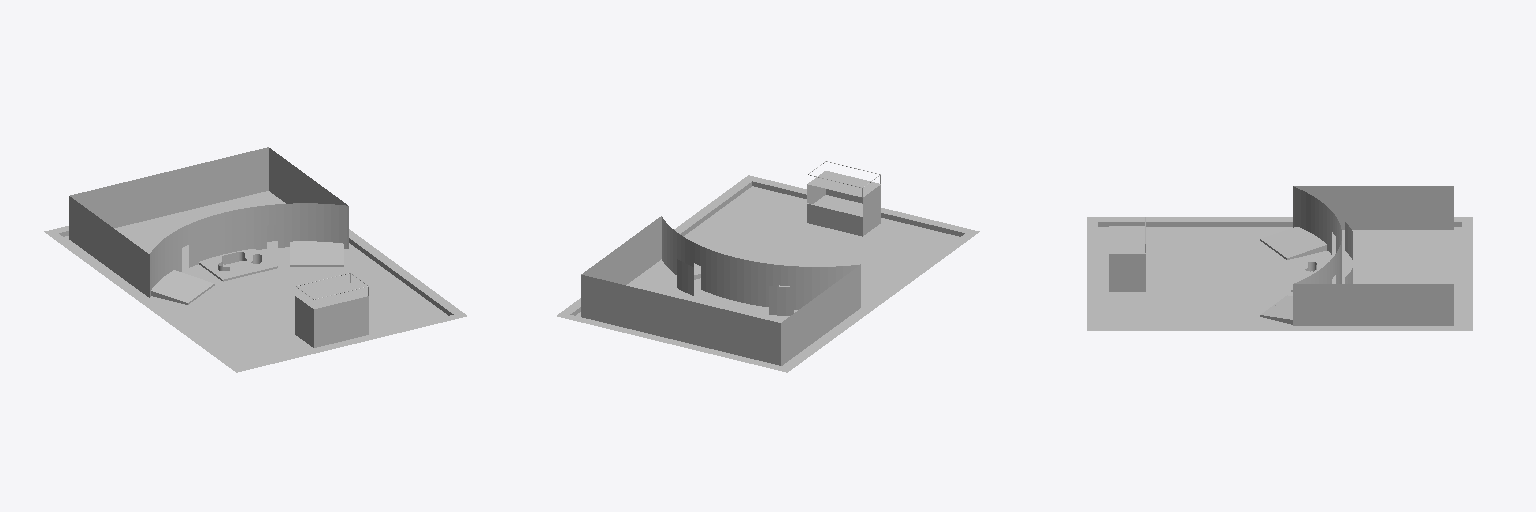
The model's file is roof.obj.
3 renders of one model, left to right at view 1: azimuth 30°, elevation 25°; view 2: azimuth 150°, elevation 25°; view 3: azimuth 270°, elevation 25°, orthographic.
Parts seen in each view (by area): view 1: floor_Plane, backstageInt_Cylinder.006, backstageExt_Cylinder.004, ledge_Plane.009, controlRoomExt_Cube, stageCol_Cube.013, stageRight_Cube.010, stageLeft_Cube.006, controlRoomInt_Plane.002; view 2: backstageInt_Cylinder.006, floor_Plane, ledge_Plane.009, backstageExt_Cylinder.004, controlRoomExt_Cube, backstageBlockerBack_Cylinder.009, controlRoomFloor_Plane.003; view 3: floor_Plane, backstageInt_Cylinder.006, ledge_Plane.009, backstageExt_Cylinder.004, controlRoomExt_Cube, stageLeft_Cube.006.
Boxes of the visible parts, x1,y1,x2,y2 form: floor_Plane: [64, 191, 447, 366]; backstageInt_Cylinder.006: [69, 147, 348, 296]; backstageExt_Cylinder.004: [69, 148, 348, 297]; ledge_Plane.009: [44, 226, 466, 372]; controlRoomExt_Cube: [295, 282, 368, 347]; stageCol_Cube.013: [199, 249, 277, 279]; stageRight_Cube.010: [290, 241, 343, 264]; stageLeft_Cube.006: [151, 270, 213, 302]; controlRoomInt_Plane.002: [295, 283, 368, 332]; backstageInt_Cylinder.006: [581, 216, 860, 365]; floor_Plane: [576, 186, 959, 366]; ledge_Plane.009: [557, 175, 979, 372]; backstageExt_Cylinder.004: [581, 217, 860, 365]; controlRoomExt_Cube: [807, 171, 880, 236]; backstageBlockerBack_Cylinder.009: [677, 259, 793, 315]; controlRoomFloor_Plane.003: [813, 195, 862, 216]; floor_Plane: [1098, 227, 1461, 325]; backstageInt_Cylinder.006: [1293, 186, 1453, 325]; ledge_Plane.009: [1087, 217, 1472, 330]; backstageExt_Cylinder.004: [1293, 186, 1453, 325]; controlRoomExt_Cube: [1109, 226, 1145, 291]; stageLeft_Cube.006: [1261, 227, 1326, 257].
Size of the model in its own units: 25 by 5.3 by 36.